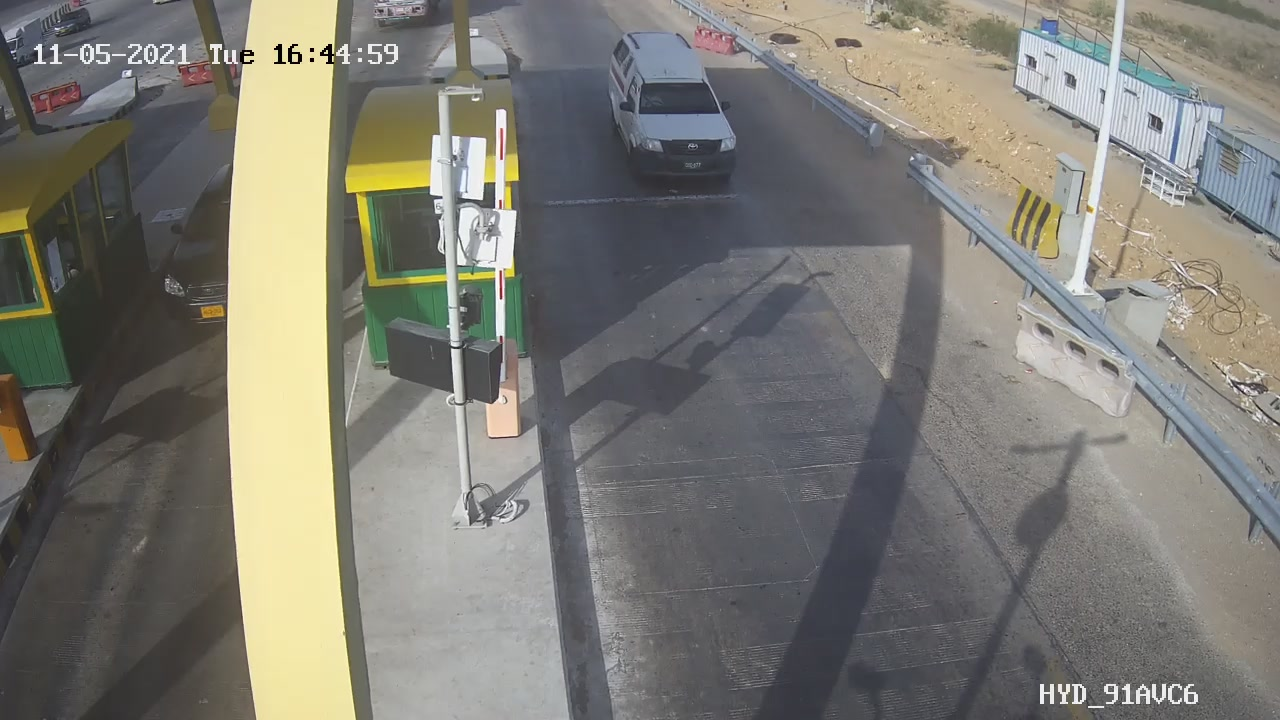F1: (590, 14, 769, 195)
